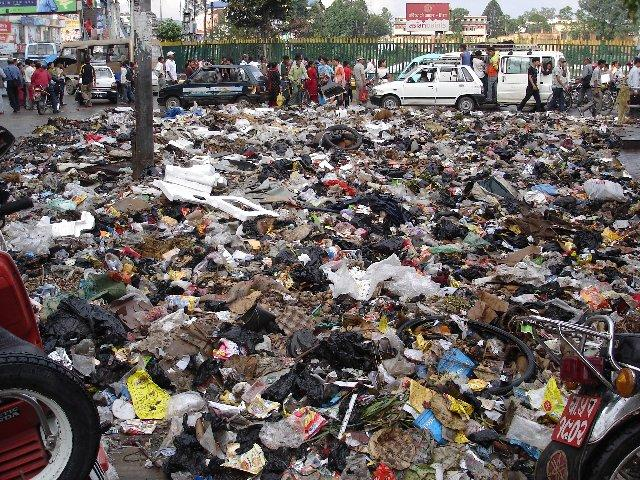garbage: (181, 119, 498, 427), (41, 197, 214, 346), (507, 126, 611, 284)
